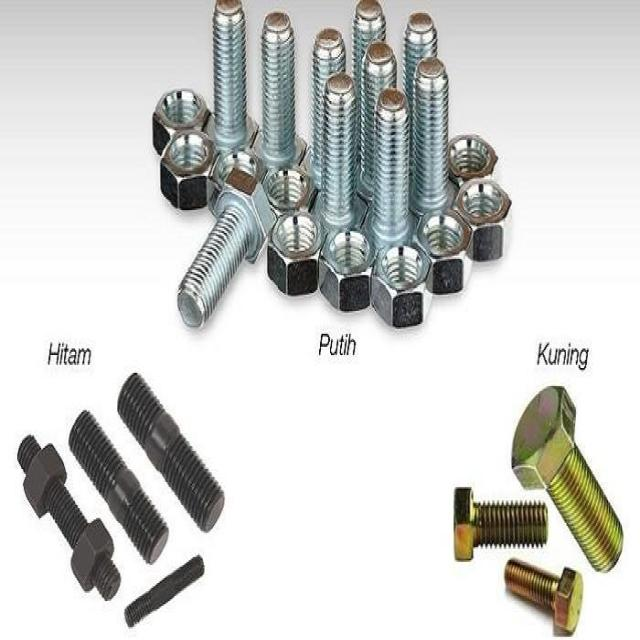Logam: (134, 29, 525, 350), (16, 311, 269, 608), (428, 330, 622, 640)
